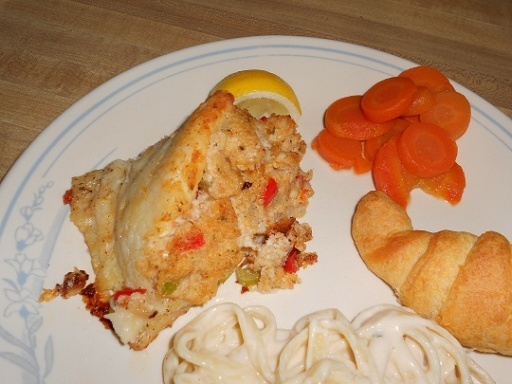background: (129, 38, 409, 230), (56, 41, 254, 210)
